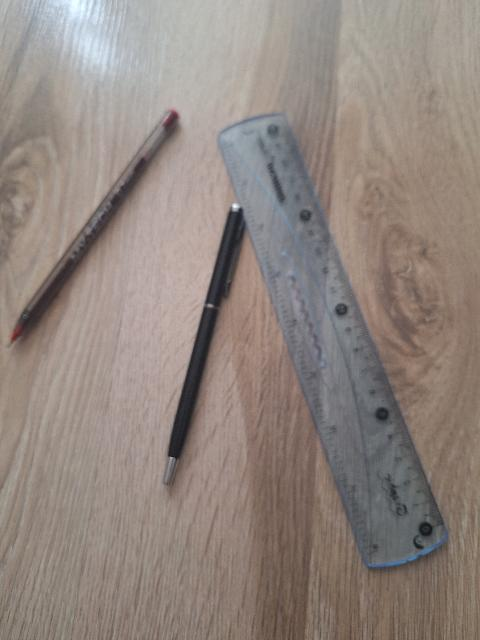writing_tool: (2, 109, 180, 340), (160, 204, 246, 483)
